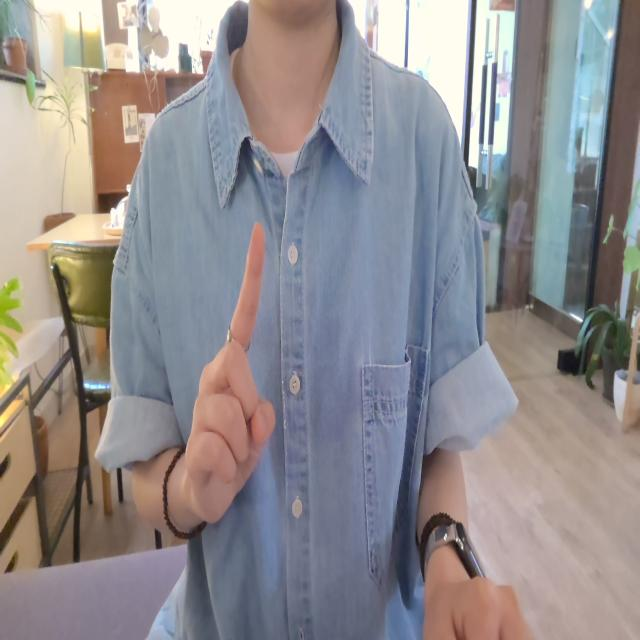hand-numbers: (166, 205, 300, 548)
